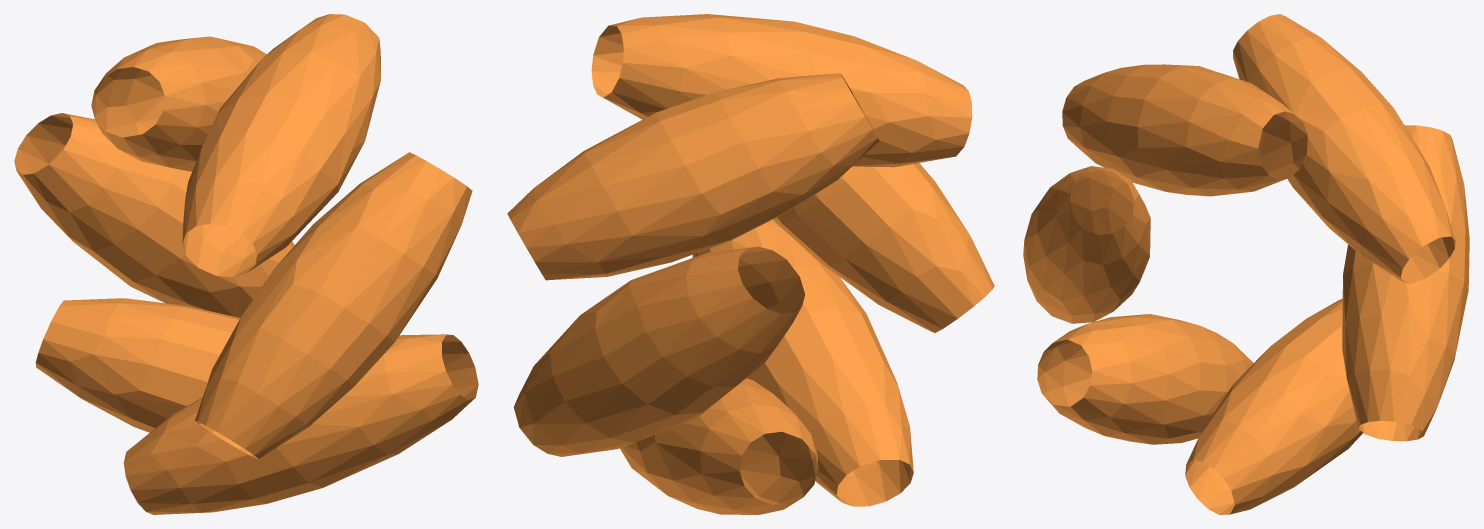
The model's file is omni_swedishWheel_rl_vis_2.dae.
3 views of the same model, side by side, from view 1: azimuth 30°, elevation 25°; view 2: azimuth 150°, elevation 25°; view 3: azimuth 270°, elevation 25° (orthographic). The views are drawn at different scales.
Visible parts, largest first — view 1: Node_0x7090cbb0b3a0; view 2: Node_0x7090cbb0b3a0; view 3: Node_0x7090cbb0b3a0.
Boxes of the visible parts, <box> form: Node_0x7090cbb0b3a0: <box>14,14,478,514</box>; Node_0x7090cbb0b3a0: <box>507,14,994,514</box>; Node_0x7090cbb0b3a0: <box>1023,14,1469,514</box>.
Bounding box in the file's own units: 0.0678 × 0.1 × 0.0999.
